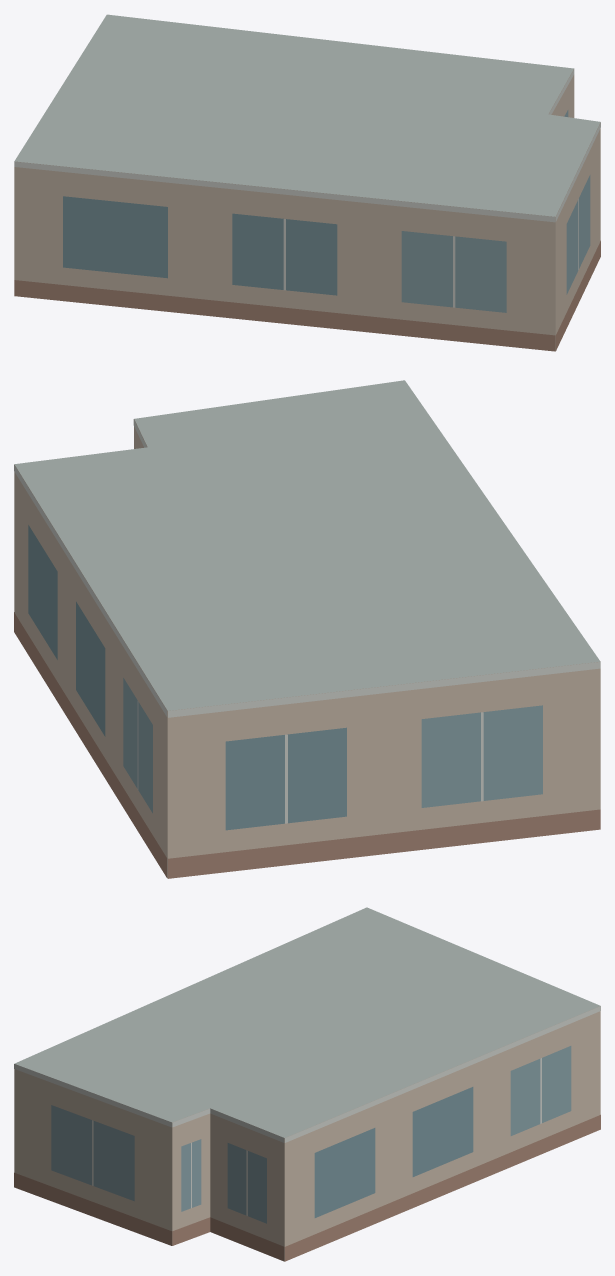
The model's file is survey-upis-32752109.glb.
3 views of the same model, one above another, from view 1: azimuth 30°, elevation 25°; view 2: azimuth 150°, elevation 25°; view 3: azimuth 270°, elevation 25° (orthographic). The views are drawn at different scales.
Parts seen in each view (by area): view 1: survey-upis-32752109.tmp; view 2: survey-upis-32752109.tmp; view 3: survey-upis-32752109.tmp.
Part boxes in pixels (x1,y1,x2,y2): survey-upis-32752109.tmp: (14, 14, 600, 351); survey-upis-32752109.tmp: (14, 380, 600, 878); survey-upis-32752109.tmp: (14, 907, 600, 1261).
Bounding box in the file's own units: 12.23 × 3.05 × 13.13.
